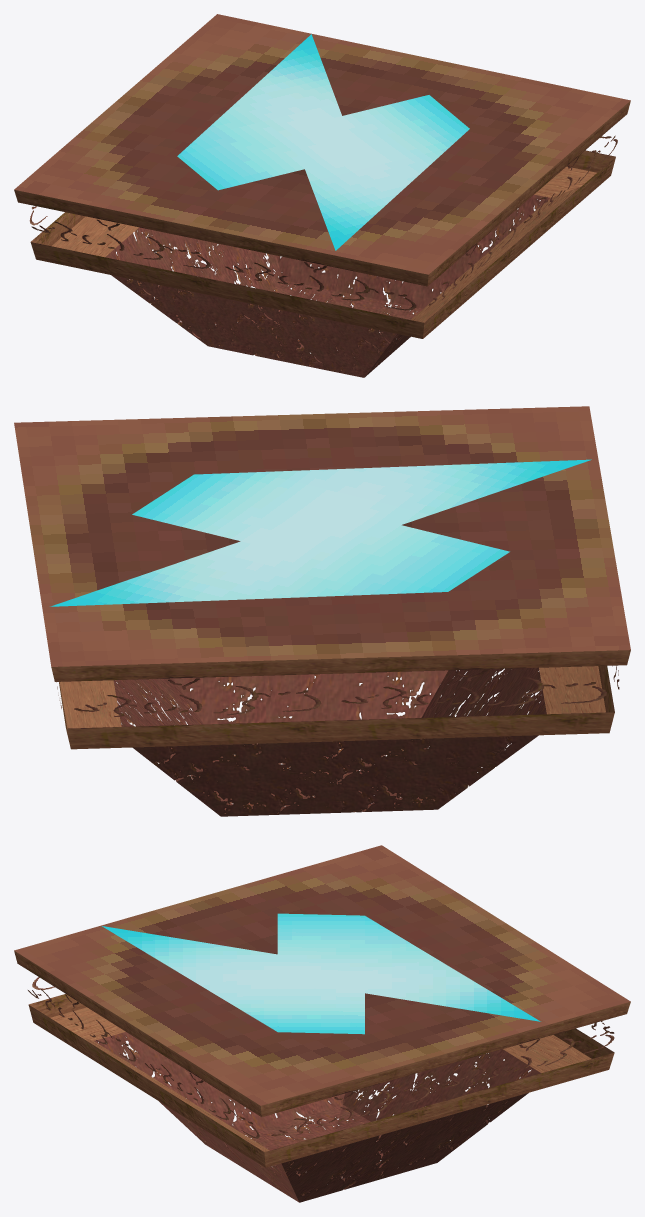
The model's file is plat-eco-lit-lod2.glb.
3 views of the same model, one above another, from view 1: azimuth 30°, elevation 25°; view 2: azimuth 150°, elevation 25°; view 3: azimuth 270°, elevation 25° (orthographic). The views are drawn at different scales.
Visible parts, largest first — view 1: plat-eco-lit-lod2; view 2: plat-eco-lit-lod2; view 3: plat-eco-lit-lod2.
Boxes of the visible parts, <box> form: plat-eco-lit-lod2: <box>14,14,630,377</box>; plat-eco-lit-lod2: <box>14,406,630,816</box>; plat-eco-lit-lod2: <box>14,845,630,1202</box>.
Size of the model in its own units: 4.96 by 1.77 by 4.96.
Materials: 5 (5 with a texture image).
